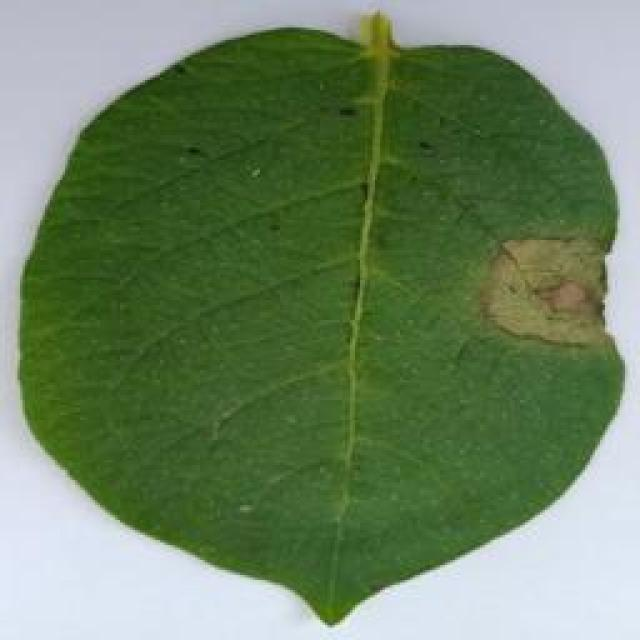Potato_Late_Blight: (14, 19, 617, 629)
